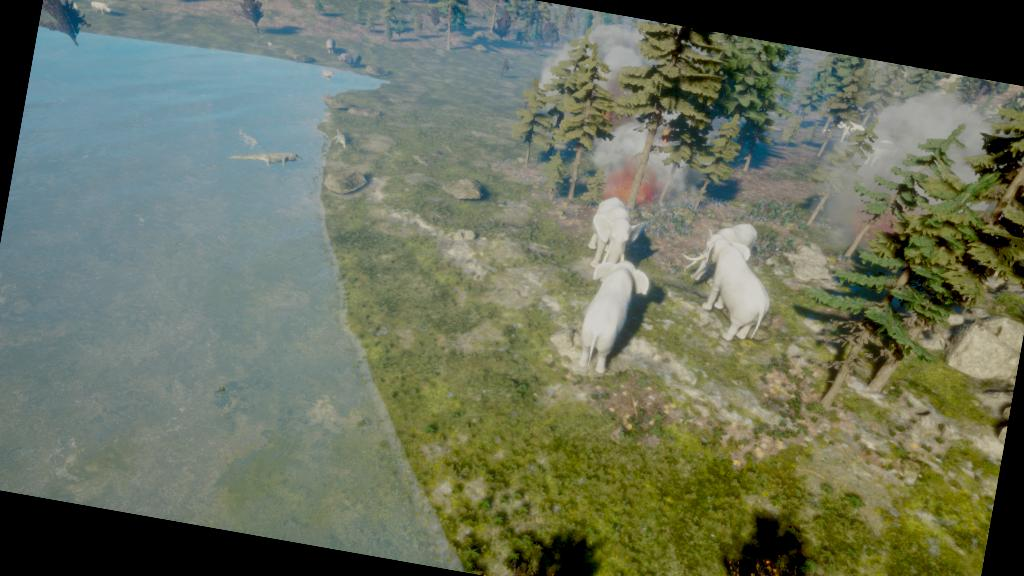Fire: (594, 153, 670, 214)
crocodile: (226, 135, 307, 185), (324, 124, 359, 156)
elephant: (683, 236, 786, 358), (569, 254, 659, 384), (672, 211, 770, 296), (574, 190, 653, 283)
hippopotamus: (334, 48, 364, 74), (320, 34, 340, 58), (316, 65, 340, 82)
rhinoceros: (86, 0, 118, 18)
smoke: (530, 20, 706, 181), (862, 82, 1006, 228)
